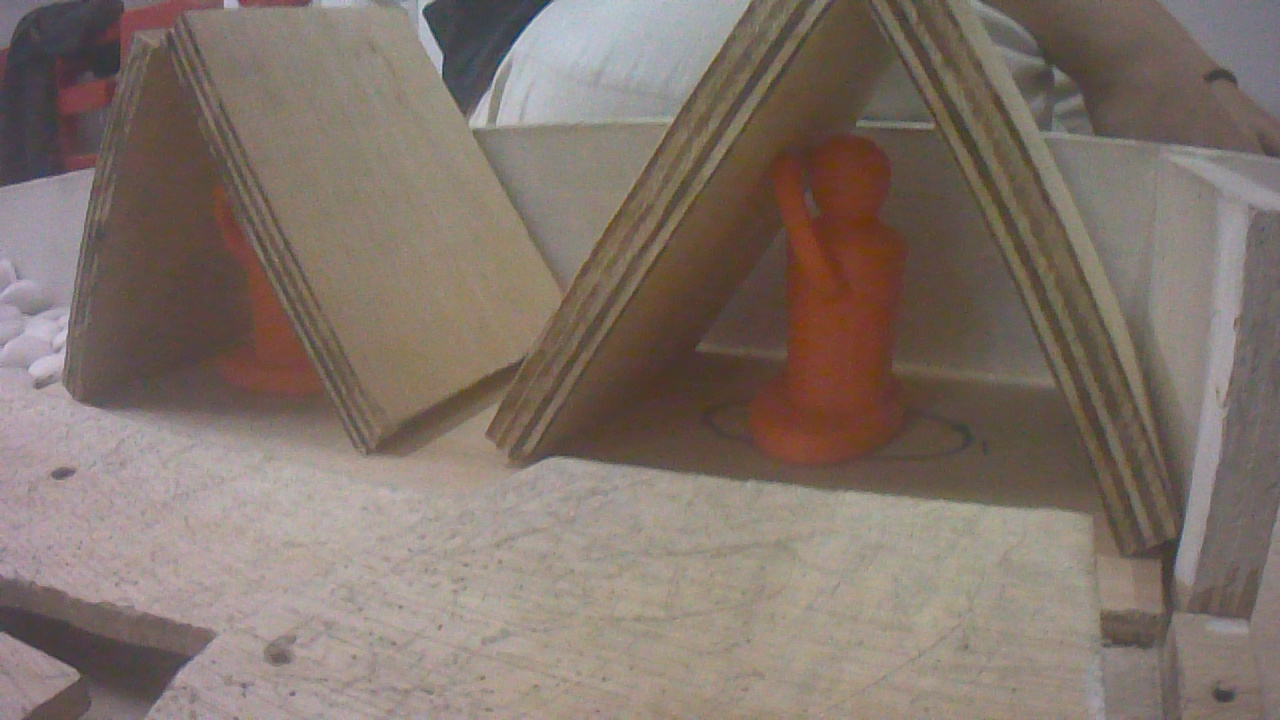real: (744, 111, 931, 456)
